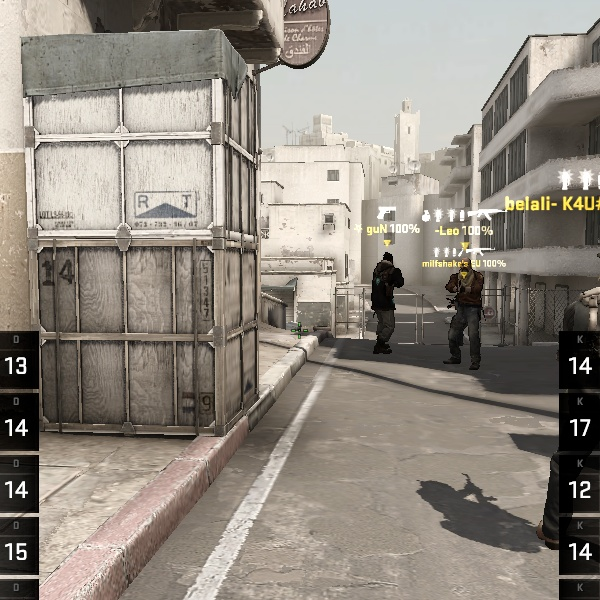t_body: (429, 252, 491, 369), (360, 248, 414, 355)
